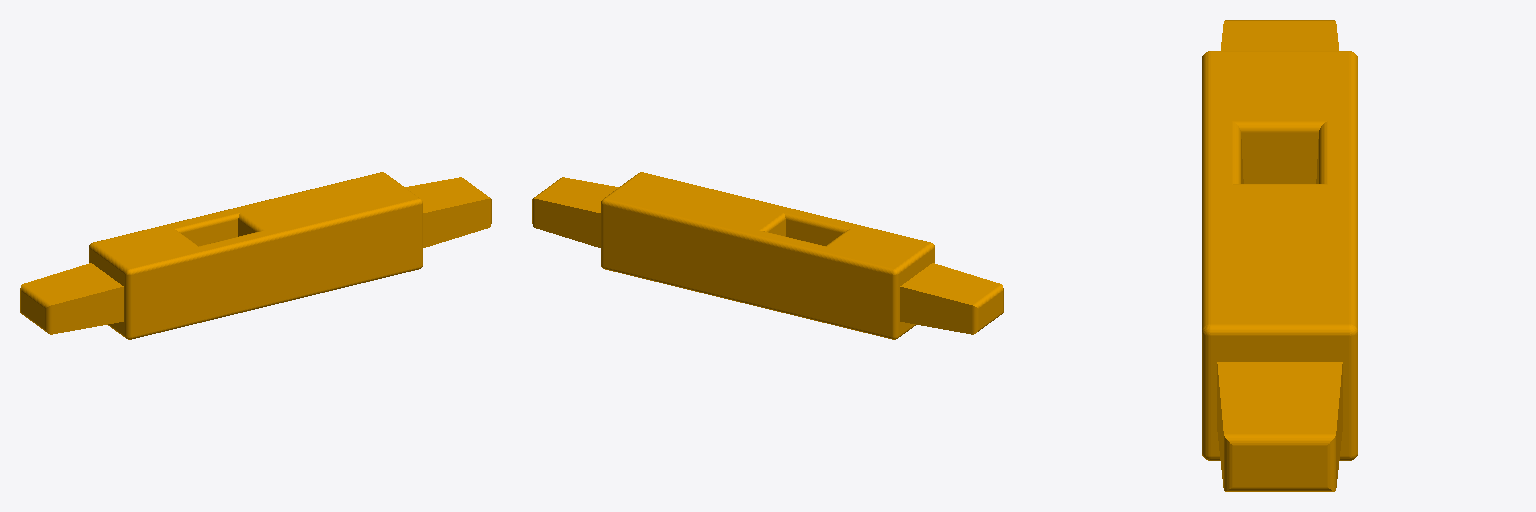
The robot description file, URDF, robot "beam_3":
<?xml version="1.0"?>
<robot name="beam_3">
  <link name="beam_3">
    <visual>
      <origin xyz="0 0 0" rpy="0 0 0"/>
      <geometry><mesh filename="3_canonical.obj" scale="1 1 1"/></geometry>
    </visual>
    <collision>
      <origin xyz="0 0 0" rpy="0 0 0"/>
      <geometry><mesh filename="3_canonical.obj" scale="1 1 1"/></geometry>
    </collision>
    <inertial><density value="1250.0"/></inertial>
  </link>
</robot>

--- Facts derived from the render (not from the file) ---
Views: 3 orthographic renders of the robot side by side, from view 1: azimuth 30°, elevation 25°; view 2: azimuth 150°, elevation 25°; view 3: azimuth 270°, elevation 25°.
Robot: beam_3 — 1 links, 0 joints (none); root link beam_3; default pose: every joint at zero.
Visible links, largest first — view 1: beam_3; view 2: beam_3; view 3: beam_3.
Boxes of the visible links, x1=… form: beam_3: x1=20, y1=172, x2=491, y2=339; beam_3: x1=532, y1=172, x2=1003, y2=339; beam_3: x1=1202, y1=20, x2=1357, y2=491.
Size in the robot's own frame: 0.1524 by 0.024 by 0.023 metres.
1 mesh visuals loaded from 1 distinct referenced files (1 OBJ).
